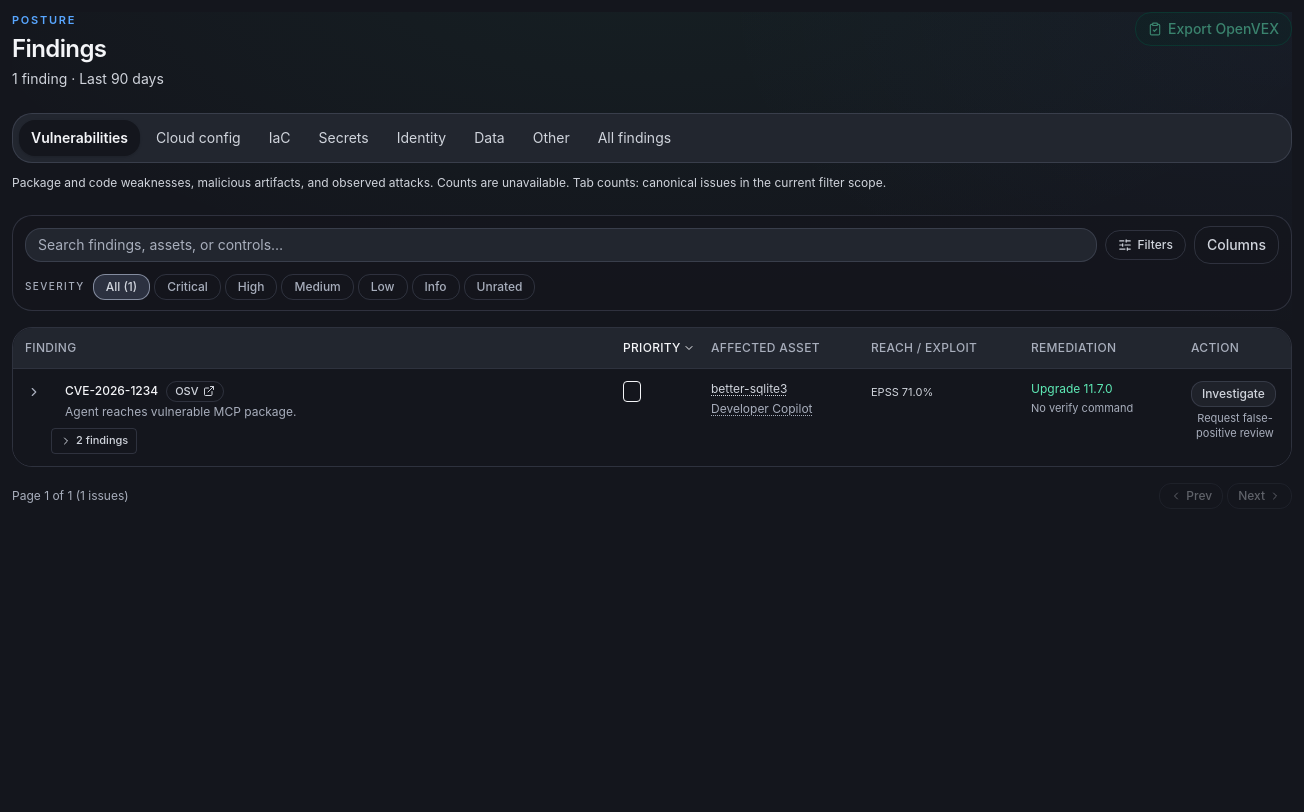
Test: FindingsPage › uses the server-backed issue view and expands preserved asset occurrences
This screenshot has width=1304, height=812.
Check: the text "1 finding · Last 90 days" is shown, box [12,68,164,88]
Check: the text "api-image" is not shown
Click the button with aria-label "Show 2 findings by asset" at (94, 441), box [51,428,137,454]
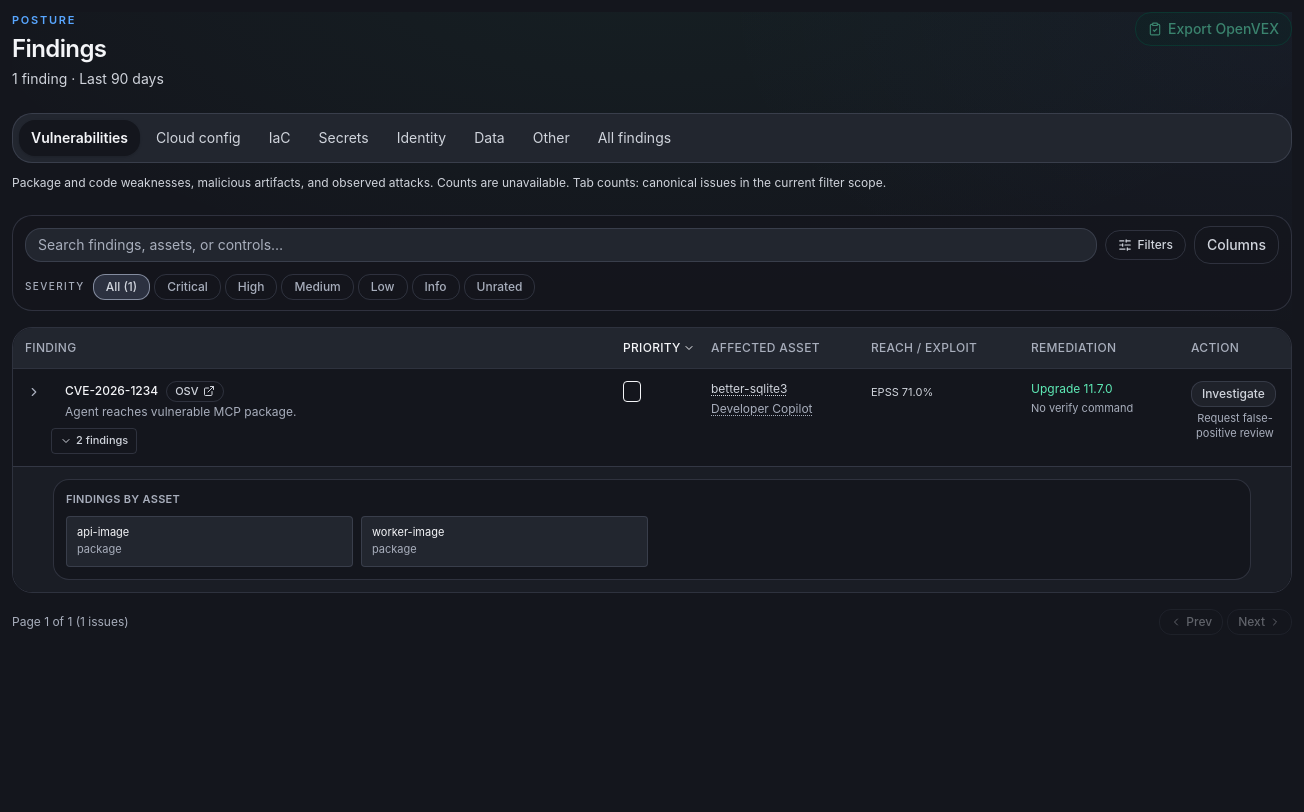
Check: the text "api-image" is shown, box [77,525,129,539]
Check: the text "worker-image" is shown, box [372,525,444,539]
